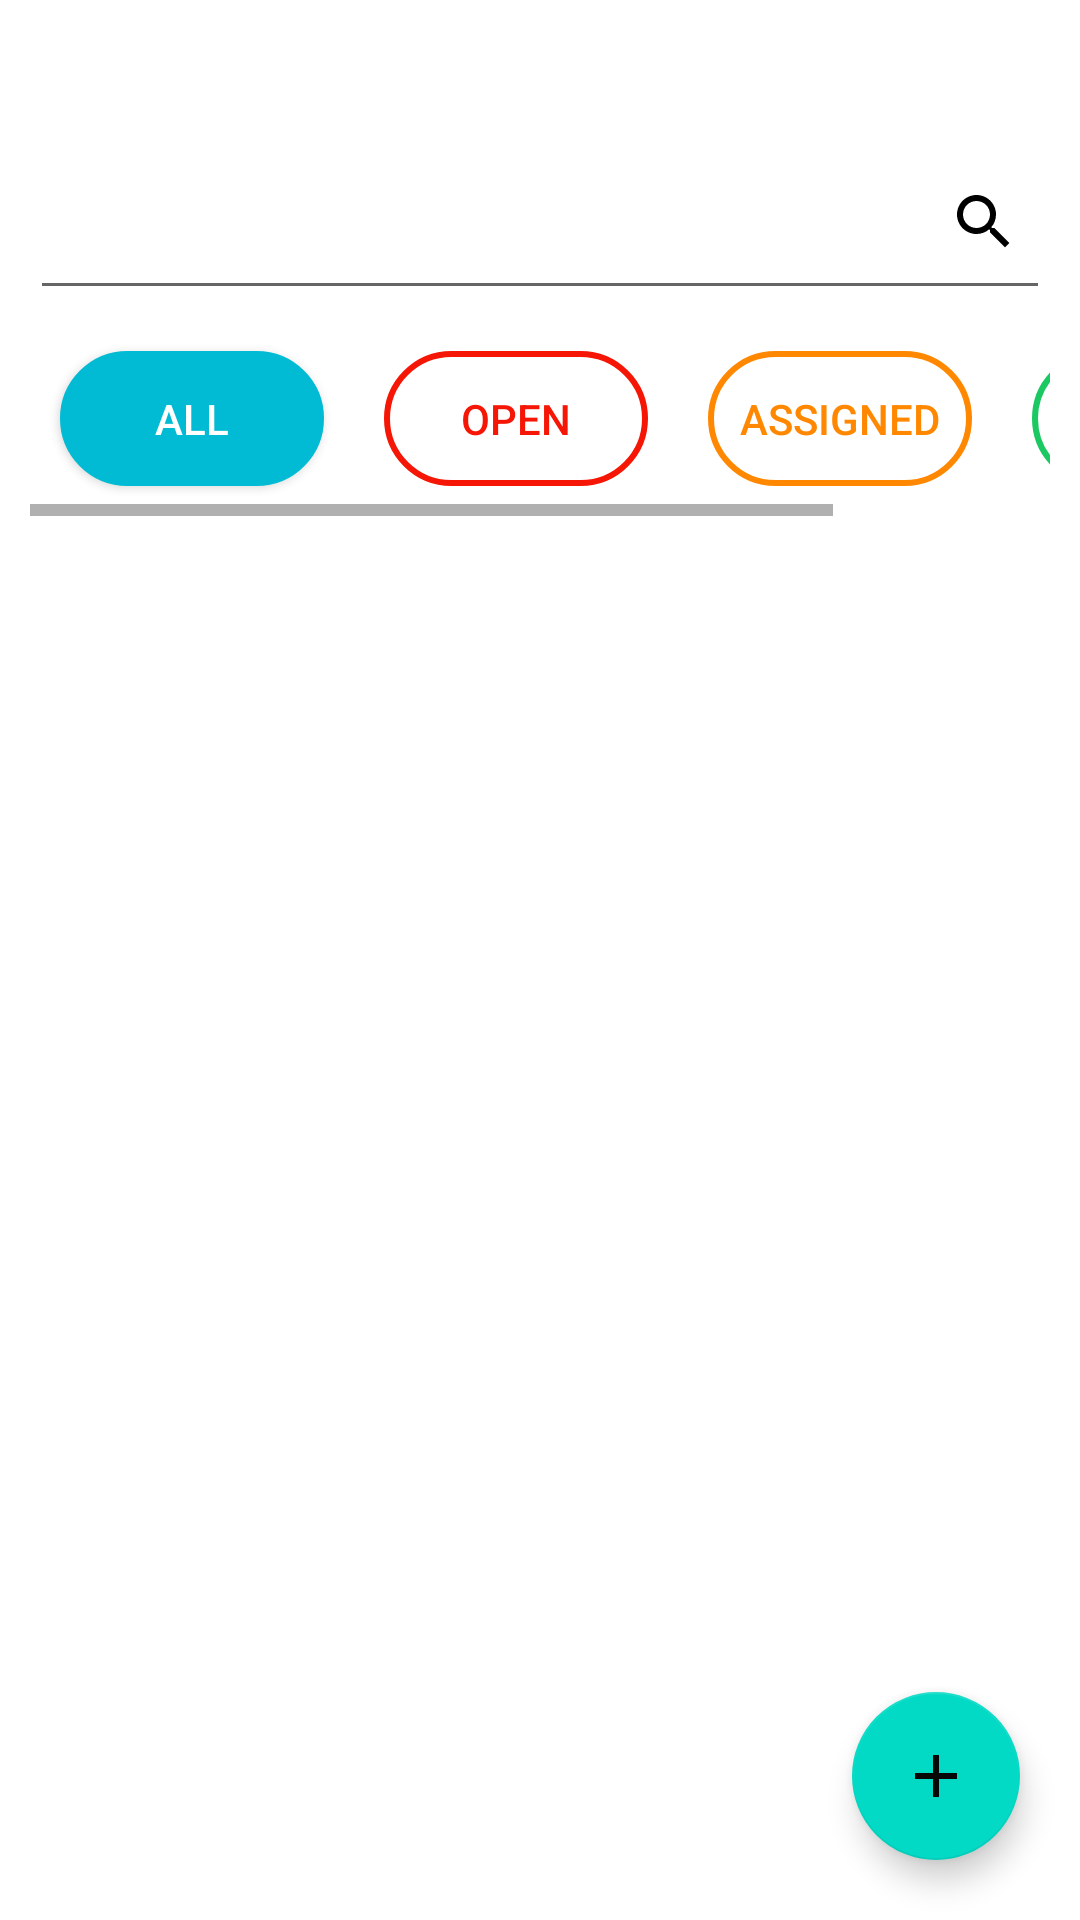

Icons on this 1080w x 1920h Android screen, each with the point to tap as (x,y):
add circle: (936,1776)
